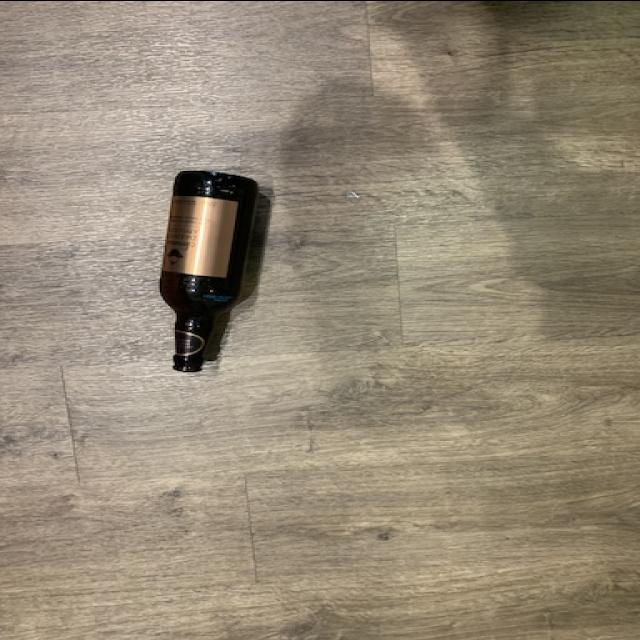Glass Bottle: (158, 172, 264, 374)
